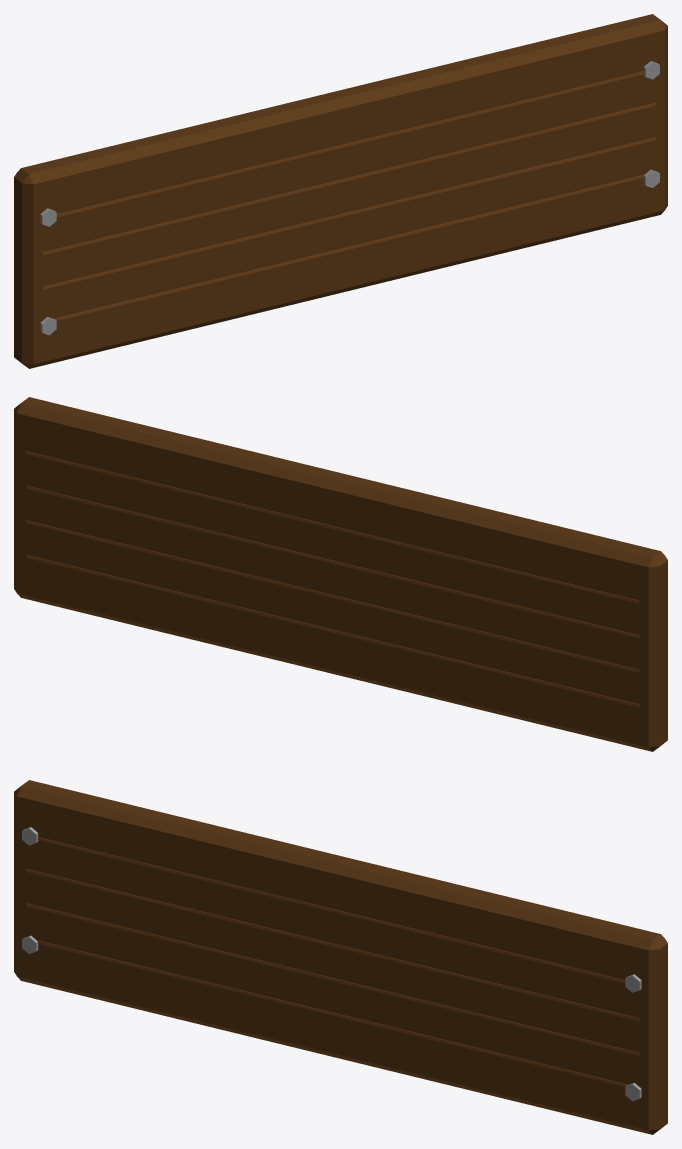
File: schild.glb
The picture shows the model from 3 angles, top to bottom: view 1: azimuth 30°, elevation 25°; view 2: azimuth 150°, elevation 25°; view 3: azimuth 330°, elevation 25°; orthographic projection.
Visible parts, largest first — view 1: schild-m; view 2: schild-m; view 3: schild-m.
Boxes of the visible parts, x1=… form: schild-m: x1=14, y1=14, x2=667, y2=368; schild-m: x1=14, y1=397, x2=667, y2=751; schild-m: x1=14, y1=780, x2=667, y2=1134.
Size of the model in its own units: 2.74 by 0.79 by 0.1375.
